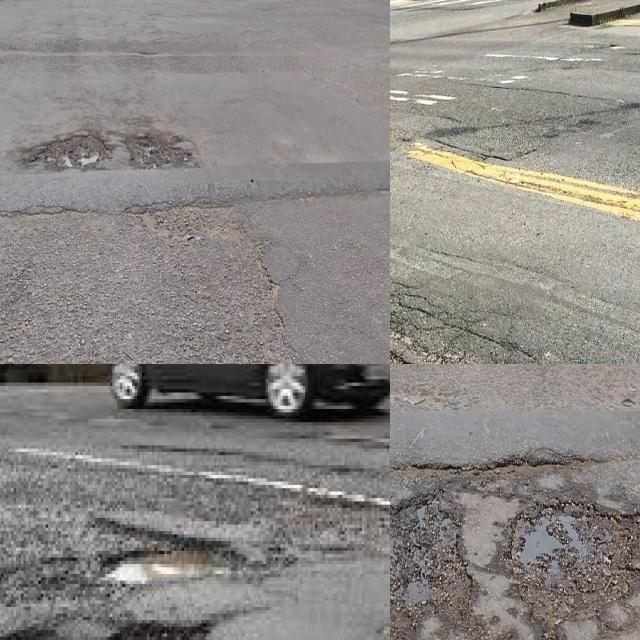Pothole: (508, 492, 640, 632), (390, 483, 478, 628), (112, 541, 241, 587), (32, 129, 110, 177), (127, 136, 192, 165)
